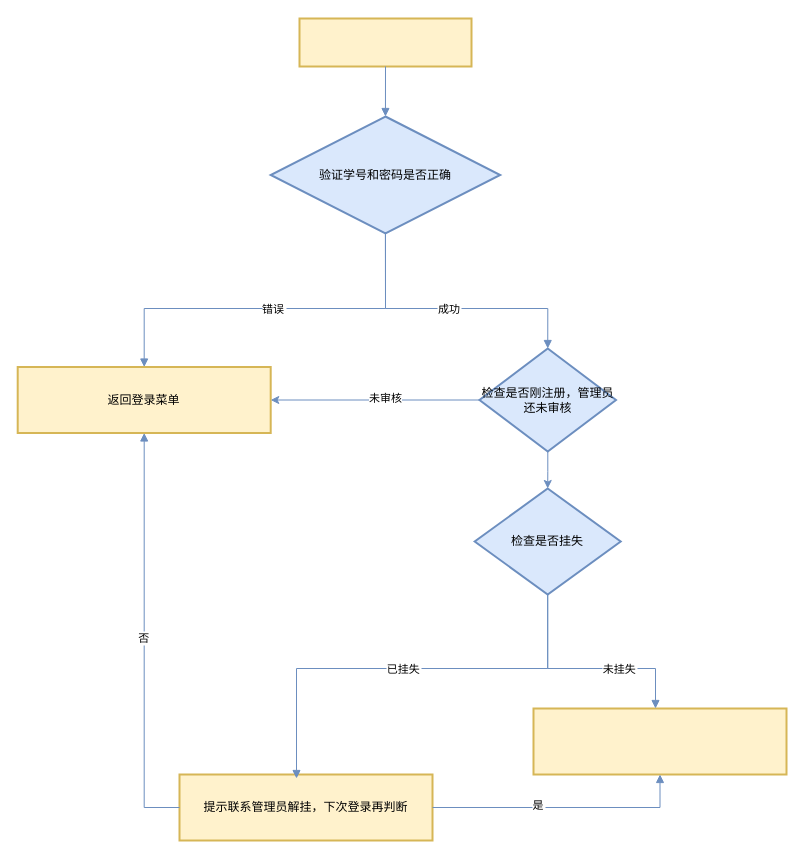
This 805x858 diagram has some shape labels left out. The box of each missing label's shape, as (x1, y1, x2, y2) in pixels:
登录成功，显示学生操作菜单: (532, 707, 787, 775)
输入学号和密码: (298, 17, 472, 67)
